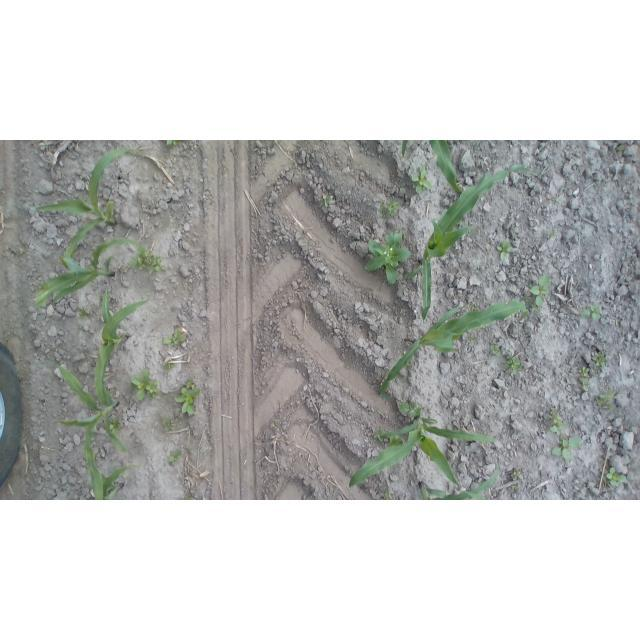Maize: (404, 161, 540, 325), (378, 300, 529, 399), (32, 147, 144, 269), (41, 364, 129, 495), (347, 416, 498, 491), (33, 232, 147, 317), (93, 287, 151, 403), (418, 456, 500, 500), (429, 140, 464, 194), (85, 464, 131, 500), (400, 140, 408, 158)
Weeds: (363, 231, 412, 286), (128, 365, 160, 403), (172, 379, 200, 416), (159, 323, 193, 350), (528, 273, 552, 310), (411, 161, 434, 195), (551, 433, 580, 459), (130, 246, 153, 272), (593, 388, 616, 412), (604, 468, 630, 489), (548, 408, 568, 435), (398, 400, 422, 420), (379, 198, 399, 218), (496, 236, 512, 261), (503, 356, 523, 376), (579, 303, 601, 321), (592, 351, 609, 370), (165, 450, 185, 466), (371, 424, 386, 444), (151, 256, 168, 273), (109, 417, 124, 435), (387, 436, 403, 447), (490, 345, 503, 357), (322, 194, 333, 208), (161, 418, 172, 432), (158, 360, 170, 372), (166, 141, 181, 150), (513, 468, 524, 480), (380, 490, 392, 500), (577, 377, 590, 386), (78, 308, 88, 319), (579, 365, 589, 375), (619, 143, 628, 153), (466, 336, 478, 342), (549, 229, 556, 239), (510, 485, 519, 492), (20, 248, 27, 255), (185, 495, 193, 500)
